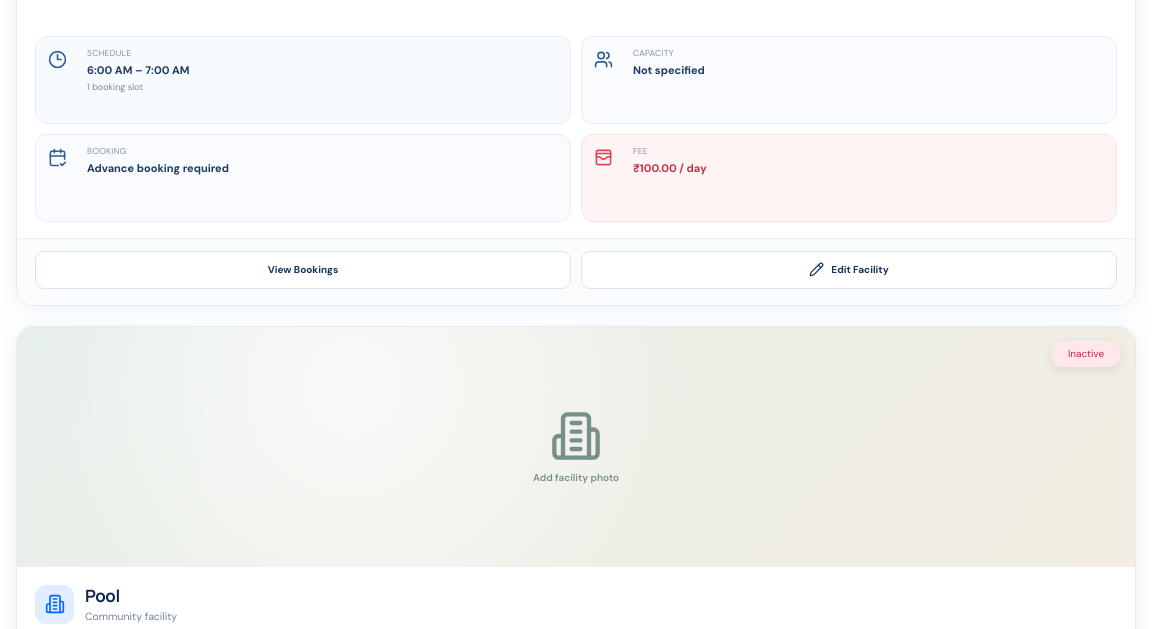
Facilities page › does not issue a write for an unchanged edit
The width and height of the screenshot is (1152, 629).
(page scrolled)
Click the button "Edit Facility".
click(849, 270)  # box [581, 250, 1117, 288]
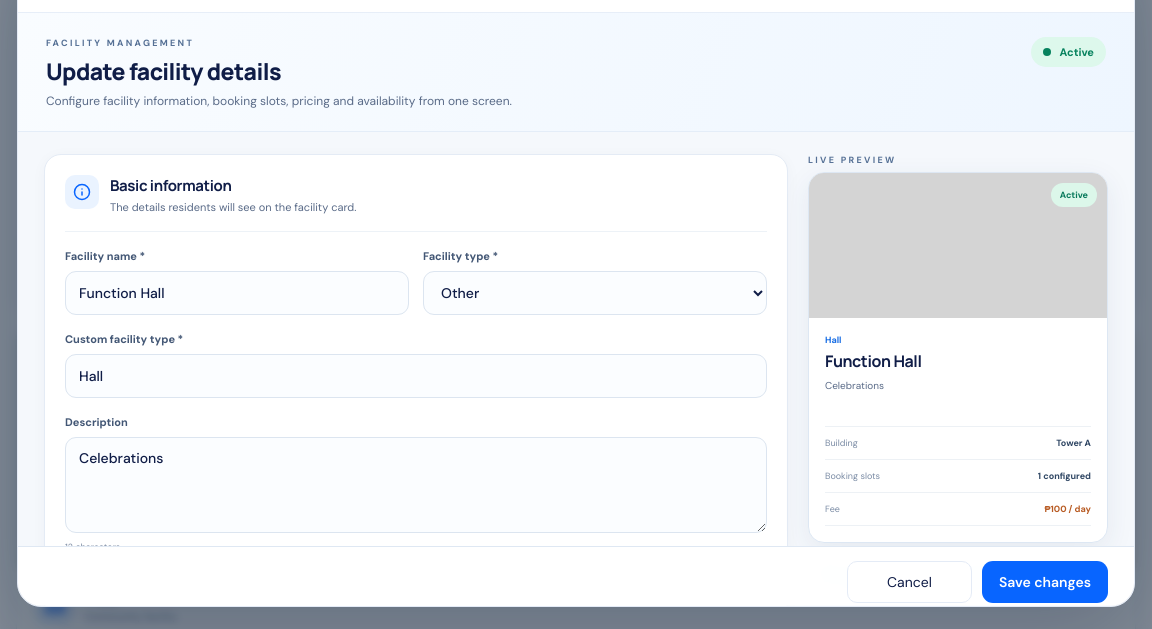
Replace the text in the field labelled "Facility name" with "  Function Hall  " at (237,293), box [65, 271, 409, 315]
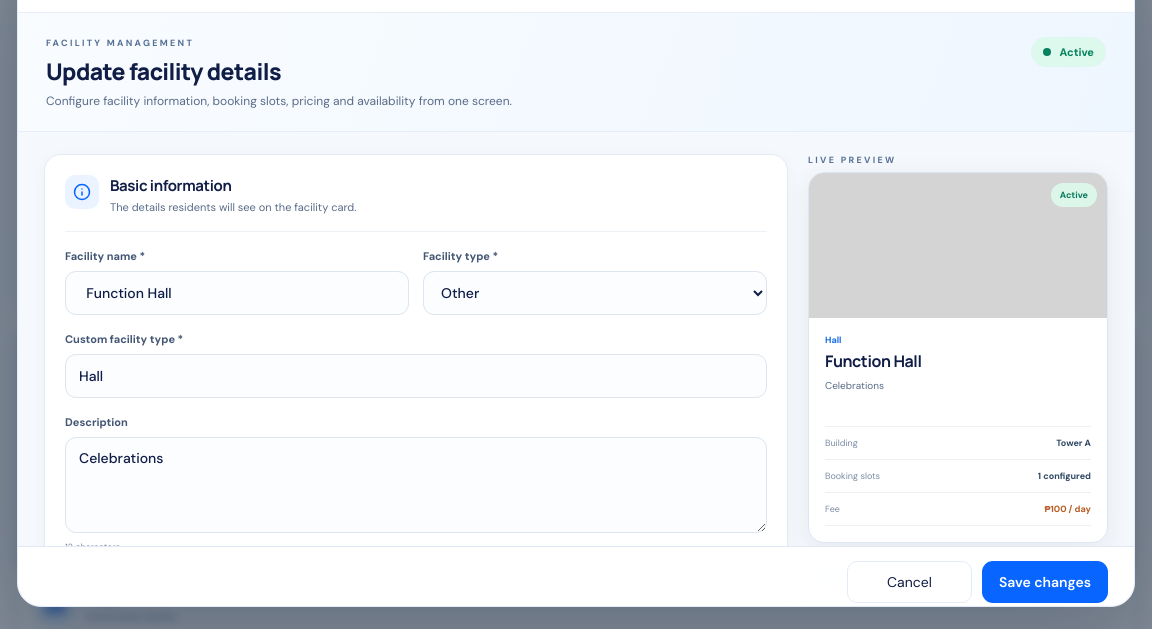
Submit the form named "Facility form"
(page scrolled)
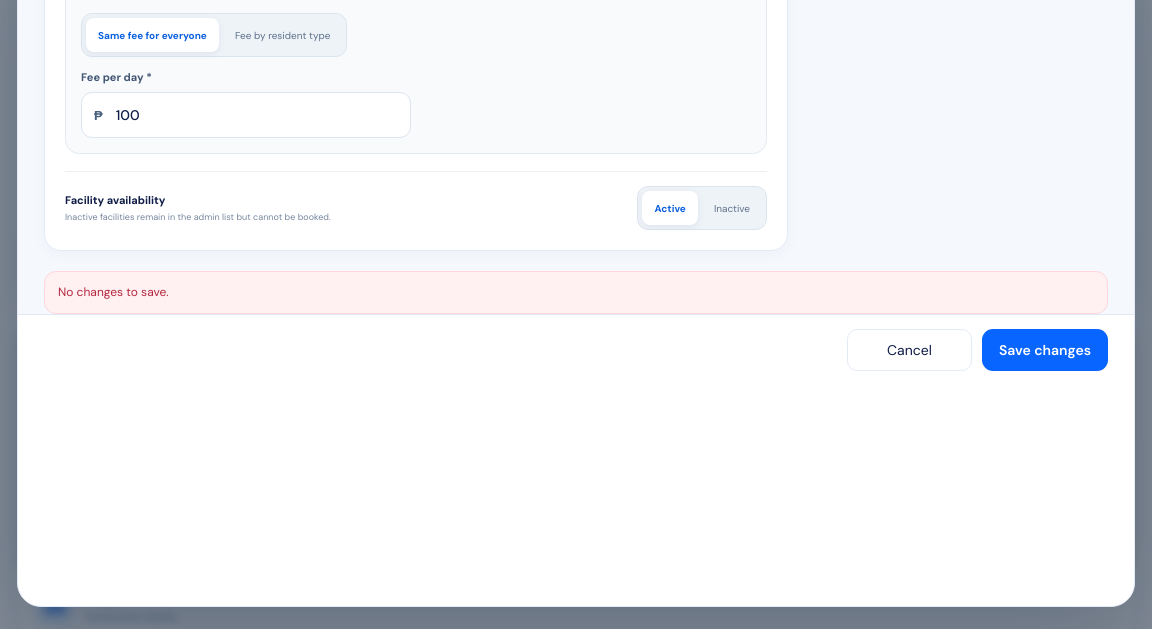
Result: the message shows "No changes to save" at [58, 284, 169, 300]
